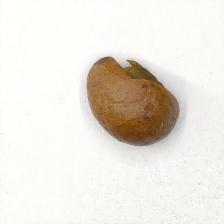NG: (108, 53, 168, 93)
